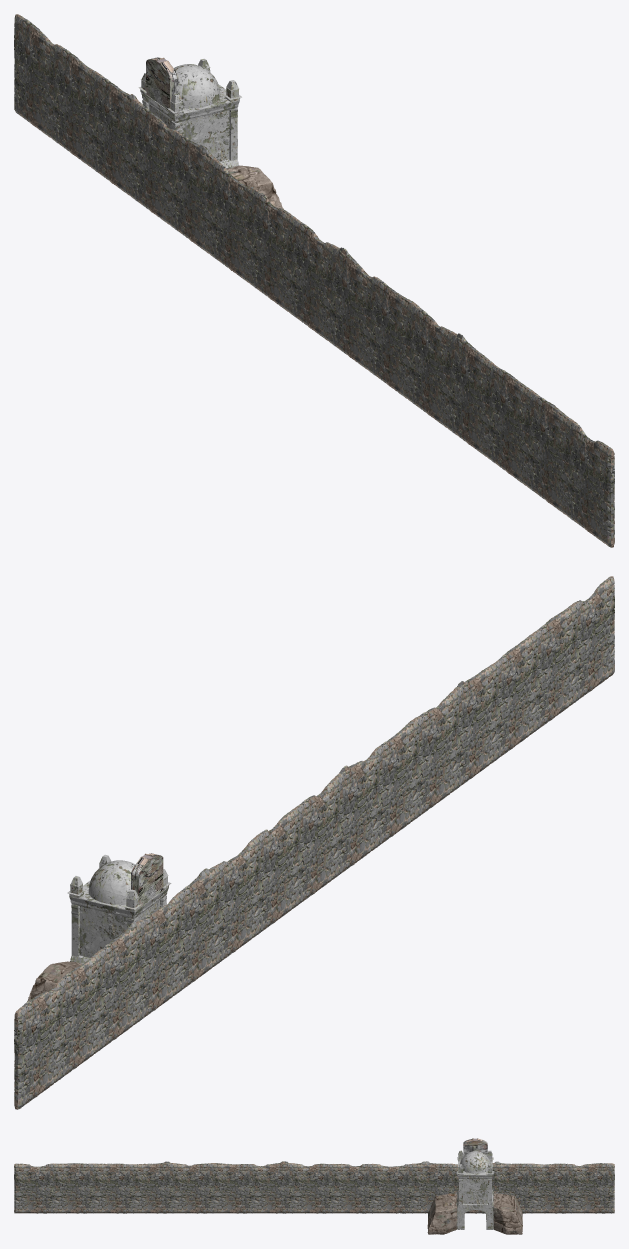
The model's file is Albarradon1.glb.
3 views of the same model, one above another, from view 1: azimuth 30°, elevation 25°; view 2: azimuth 150°, elevation 25°; view 3: azimuth 270°, elevation 25° (orthographic). The views are drawn at different scales.
Parts seen in each view (by area): view 1: MURO, ERMITA, Cupula, COLUMNAS, Fronton, Rompeolas; view 2: MURO, ERMITA, Cupula, COLUMNAS, Fronton, Rompeolas; view 3: MURO, Rompeolas, ERMITA, Cupula, COLUMNAS, Fronton.
Boxes of the visible parts, x1,y1,x2,y2 form: MURO: (14,14,614,547); ERMITA: (140,84,239,168); Cupula: (174,64,220,108); COLUMNAS: (138,58,241,160); Fronton: (146,57,178,110); Rompeolas: (226,165,283,209); MURO: (14,576,614,1109); ERMITA: (69,880,168,963); Cupula: (88,860,135,904); COLUMNAS: (67,854,171,956); Fronton: (131,853,163,906); Rompeolas: (27,961,82,1001); MURO: (14,1161,614,1213); Rompeolas: (427,1193,522,1234); ERMITA: (457,1161,493,1229); Cupula: (460,1151,490,1173); COLUMNAS: (457,1150,493,1204); Fronton: (463,1138,487,1156).
Size of the model in its own units: 14.58 by 23.2 by 165.
Materials: 6 (6 with a texture image).
